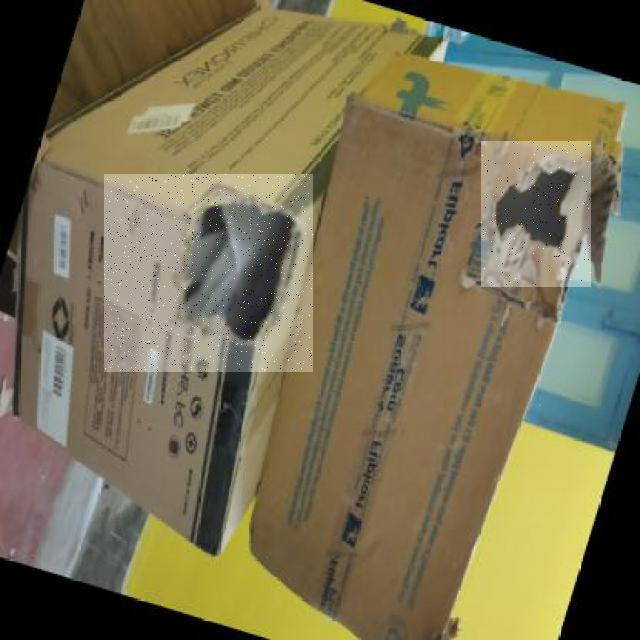leakage: (104, 175, 313, 371), (481, 142, 591, 286)
